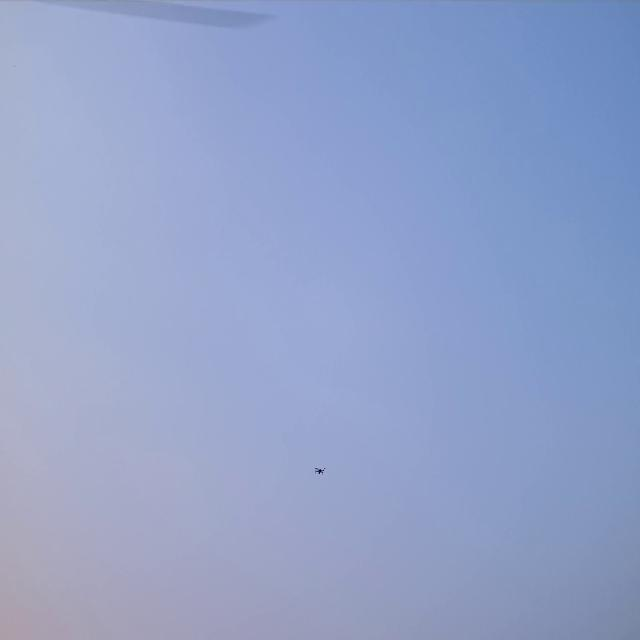UAV: (312, 464, 328, 478)
